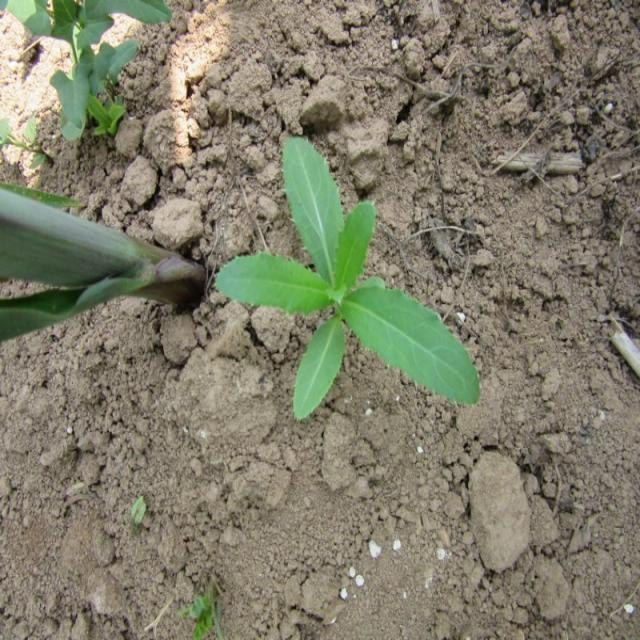cs: (212, 127, 484, 420)
